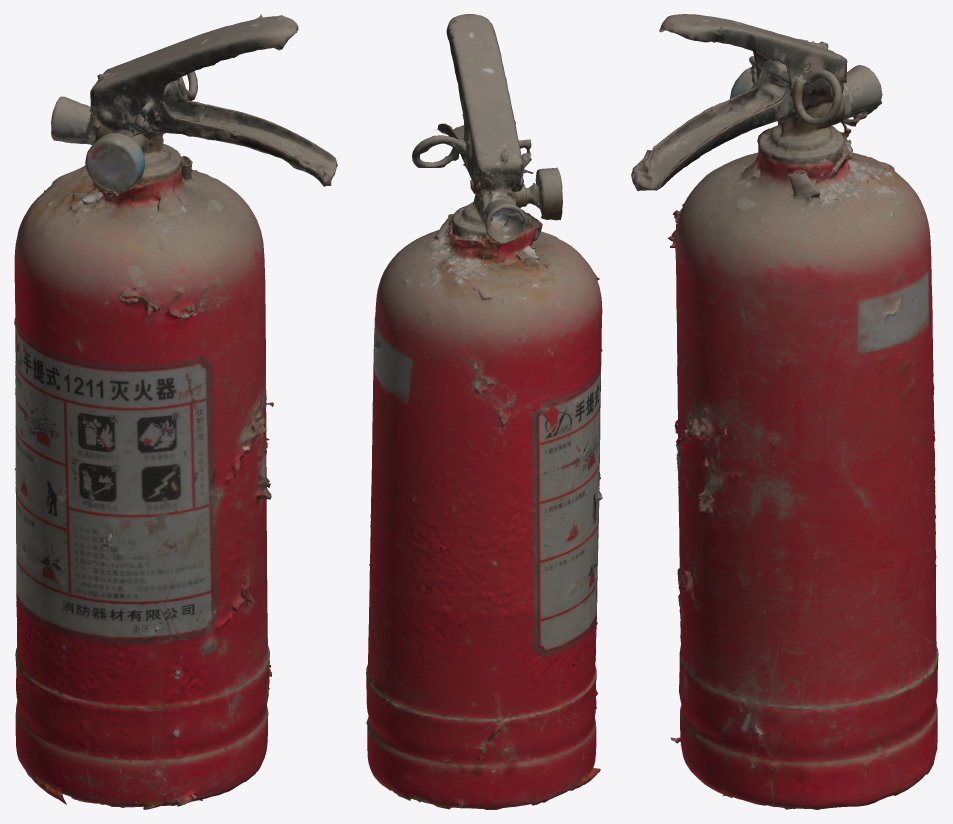
File: PX_Fire_Extinguisher_01_LOD0.fbx
3 renders of one model, left to right at view 1: azimuth 30°, elevation 25°; view 2: azimuth 150°, elevation 25°; view 3: azimuth 270°, elevation 25°, orthographic. The views are drawn at different scales.
Parts seen in each view (by area): view 1: PX_Fire_Extinguisher_01_LOD0; view 2: PX_Fire_Extinguisher_01_LOD0; view 3: PX_Fire_Extinguisher_01_LOD0.
Part boxes in pixels (x1=…): PX_Fire_Extinguisher_01_LOD0: x1=14, y1=14, x2=337, y2=809; PX_Fire_Extinguisher_01_LOD0: x1=366, y1=14, x2=602, y2=809; PX_Fire_Extinguisher_01_LOD0: x1=631, y1=14, x2=938, y2=809.
Bounding box in the file's own units: 9.09 × 28.3 × 10.1.
